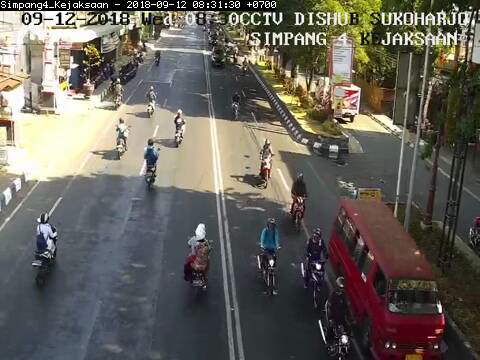motor: (318, 274, 360, 360), (298, 224, 331, 310), (255, 218, 282, 299), (288, 169, 309, 232), (259, 138, 274, 189)
